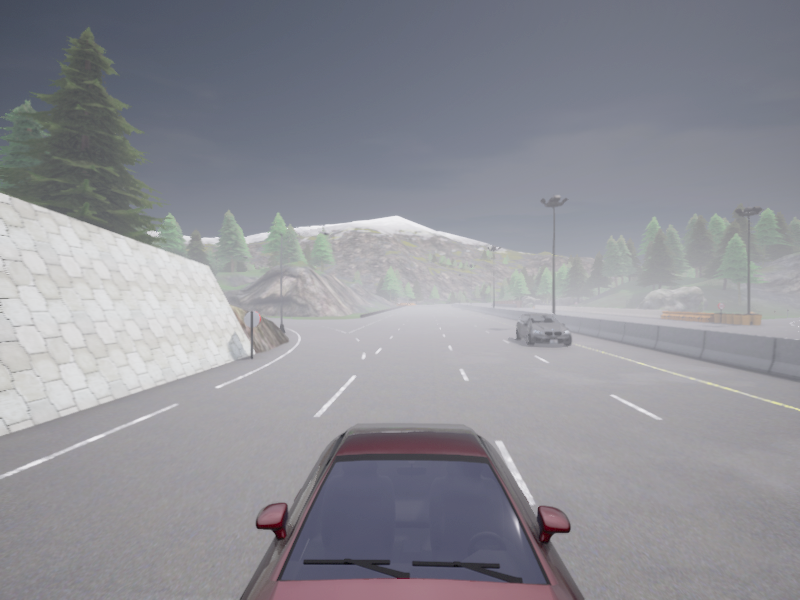vehicle: (239, 423, 584, 599), (515, 313, 571, 346)
